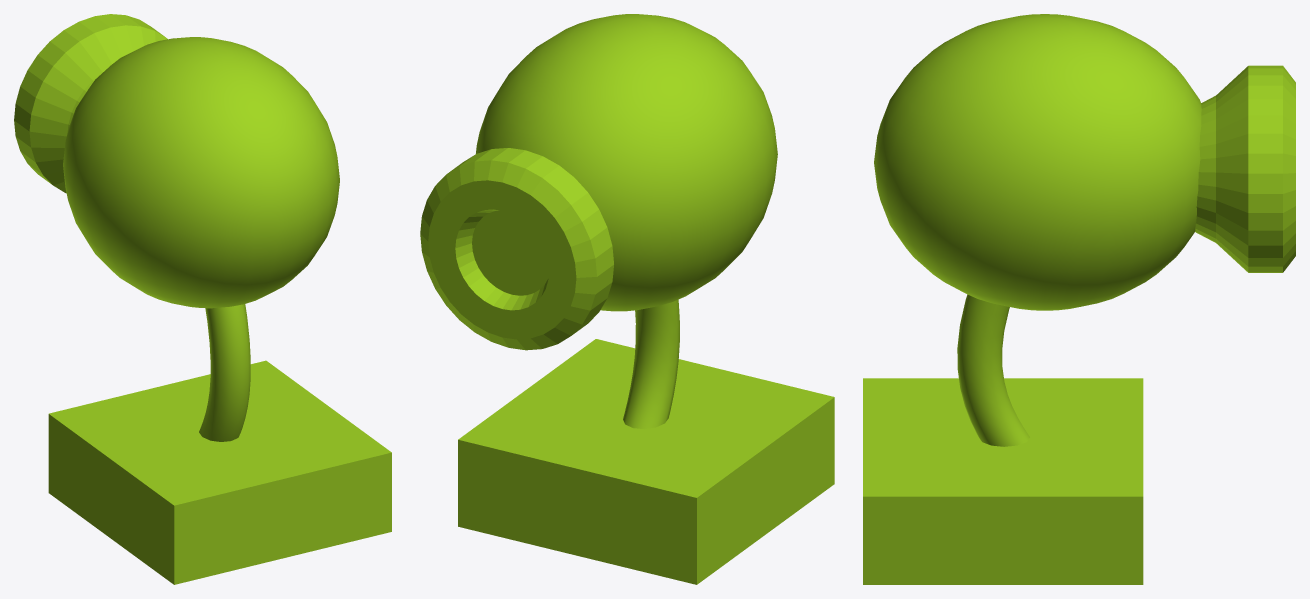
The model's file is PeaShooter.fbx.
3 views of the same model, side by side, from view 1: azimuth 30°, elevation 25°; view 2: azimuth 150°, elevation 25°; view 3: azimuth 270°, elevation 25° (orthographic). The views are drawn at different scales.
Visible parts, largest first — view 1: Peashooter; view 2: Peashooter; view 3: Peashooter.
Boxes of the visible parts, box(x1,y1,x2,y2) form: Peashooter: box(14, 14, 391, 584); Peashooter: box(420, 14, 834, 584); Peashooter: box(863, 14, 1295, 584).
Bounding box in the file's own units: 53.02 × 98.06 × 77.24.
1 material, 1 textured.
